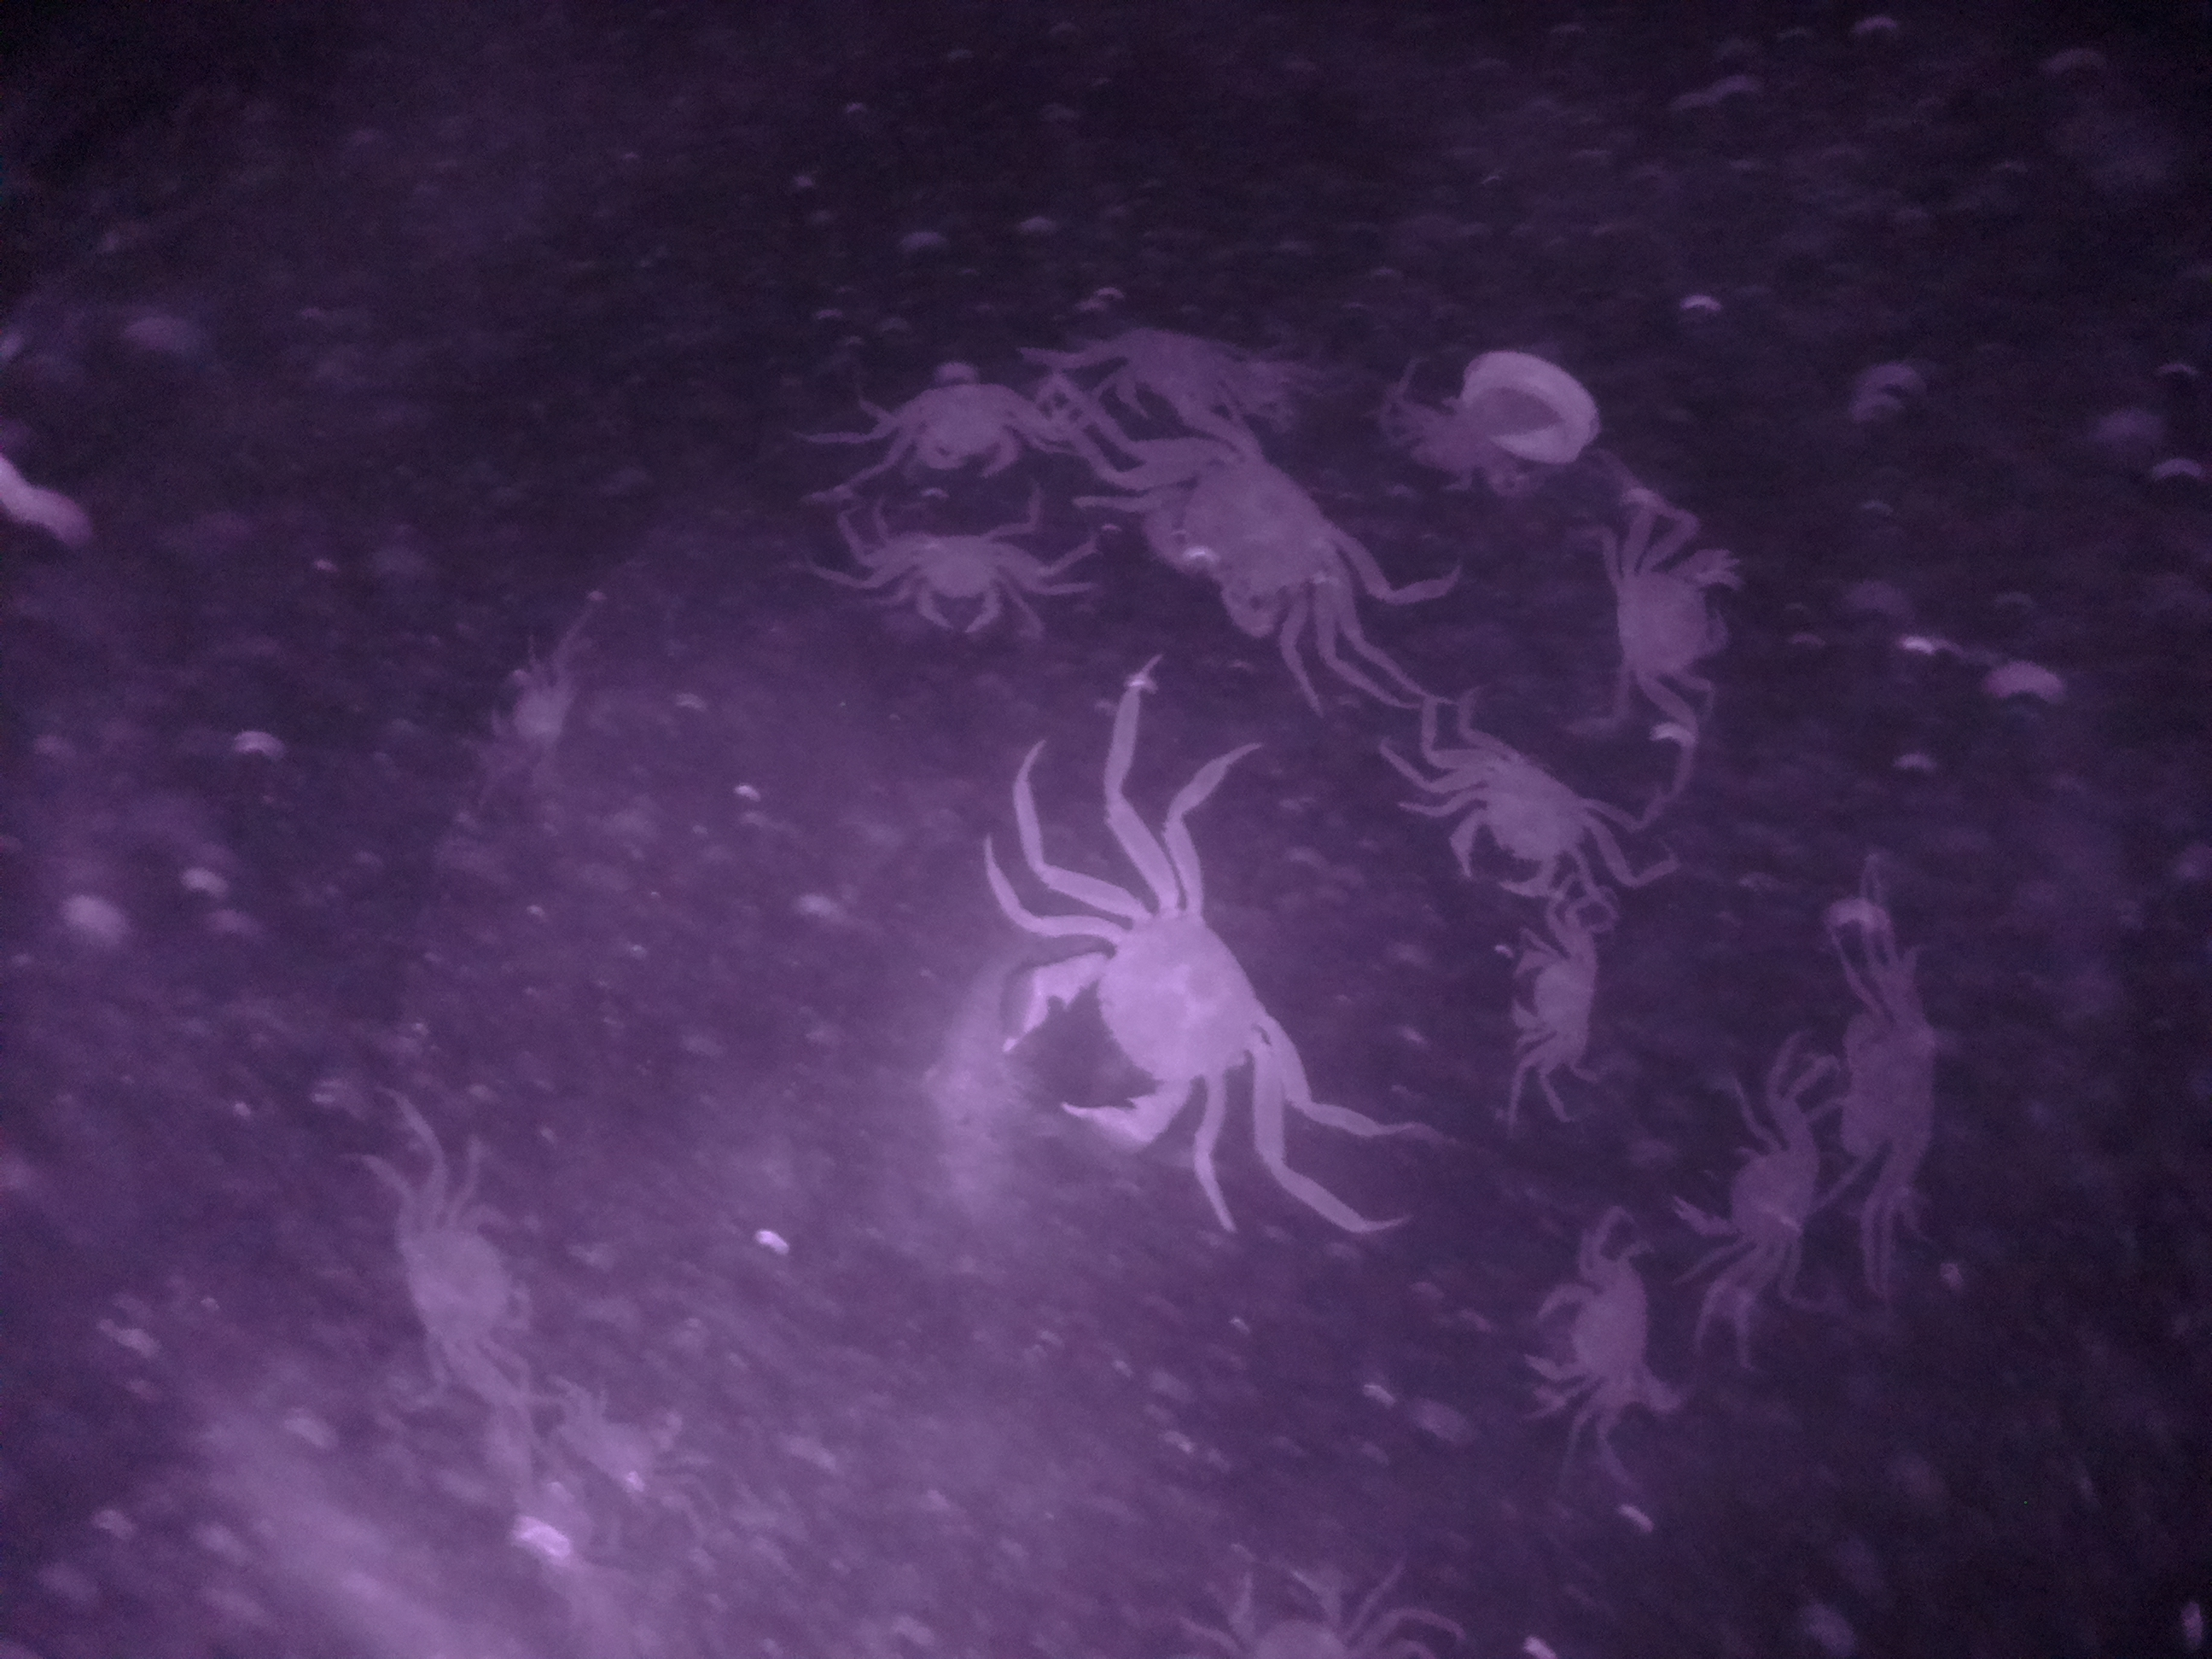Crab: (972, 877, 1287, 1168), (1137, 425, 1360, 655), (1413, 735, 1618, 904), (383, 1183, 545, 1384), (1505, 1237, 1665, 1427), (1827, 979, 1963, 1194), (867, 352, 1057, 484), (1599, 540, 1742, 704), (869, 521, 1045, 648), (1487, 915, 1620, 1068)
